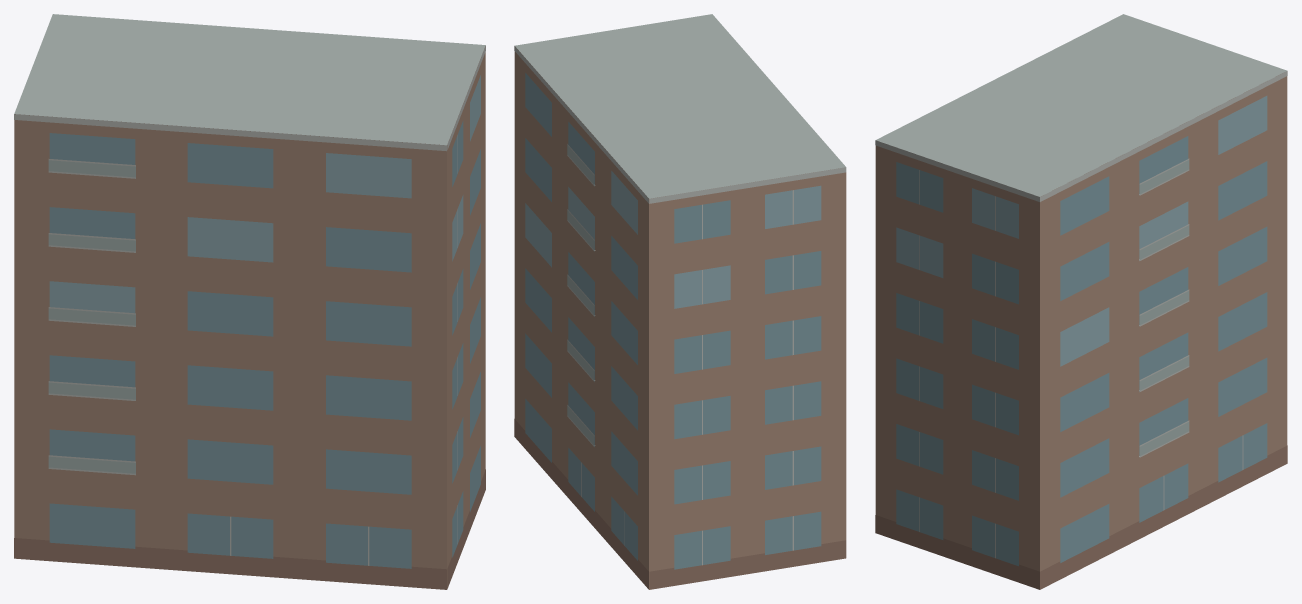
Rendered from survey-upis-32678910.glb.
The picture shows the model from 3 angles, left to right: view 1: azimuth 30°, elevation 25°; view 2: azimuth 150°, elevation 25°; view 3: azimuth 270°, elevation 25°; orthographic projection. The views are drawn at different scales.
Parts seen in each view (by area): view 1: survey-upis-32678910.tmp; view 2: survey-upis-32678910.tmp; view 3: survey-upis-32678910.tmp.
Part boxes in pixels (x1,y1,x2,y2): survey-upis-32678910.tmp: (14, 14, 485, 589); survey-upis-32678910.tmp: (514, 14, 846, 589); survey-upis-32678910.tmp: (875, 14, 1287, 589).
Size of the model in its own units: 18.39 by 18.4 by 17.5.
